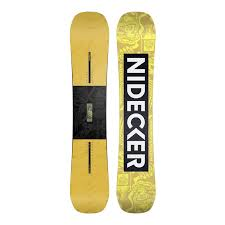snowboard: (115, 9, 157, 214), (69, 11, 110, 214)
